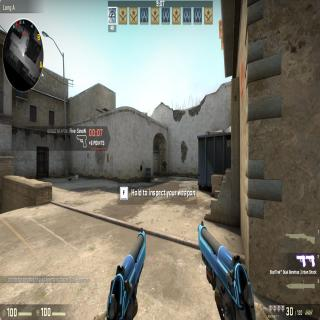T-Body: (162, 159, 167, 178)
T-Head: (163, 158, 165, 163)
